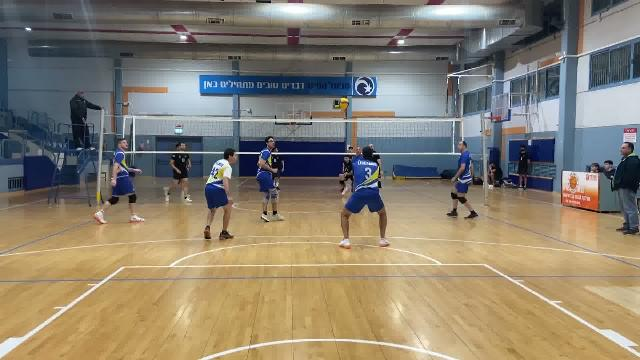ball: (336, 95, 350, 112)
